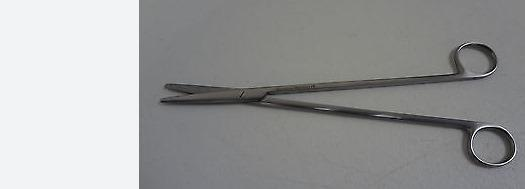Metzenbaum Sciccors: (155, 40, 517, 170)
